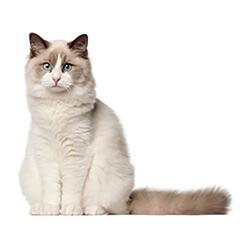ragdoll: (22, 31, 93, 101)
